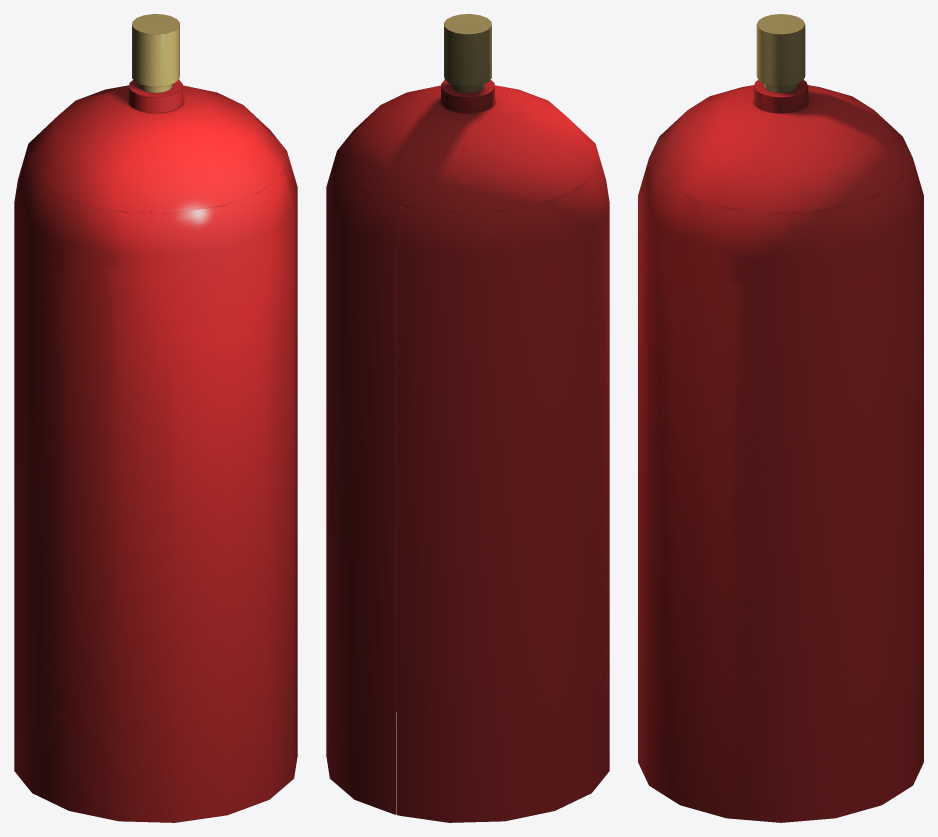
The model's file is gangping002.FBX.
The picture shows the model from 3 angles, left to right: view 1: azimuth 30°, elevation 25°; view 2: azimuth 150°, elevation 25°; view 3: azimuth 270°, elevation 25°; orthographic projection.
Visible parts, largest first — view 1: gangping002; view 2: gangping002; view 3: gangping002.
Part boxes in pixels (<box>): gangping002: <box>14,14,297,822</box>; gangping002: <box>326,14,609,822</box>; gangping002: <box>638,14,923,822</box>.
Bounding box in the file's own units: 28 × 79.82 × 28.
